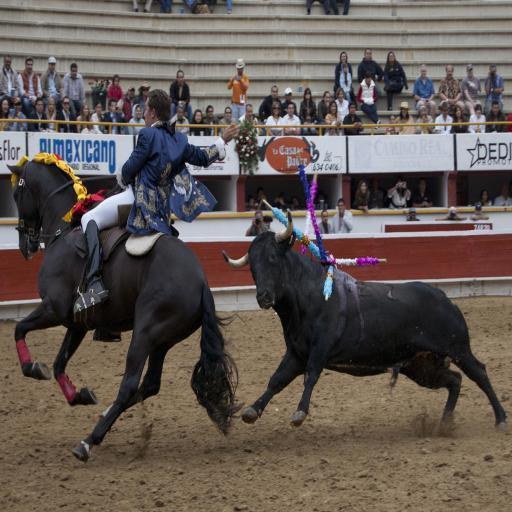horse: (5, 160, 245, 464)
